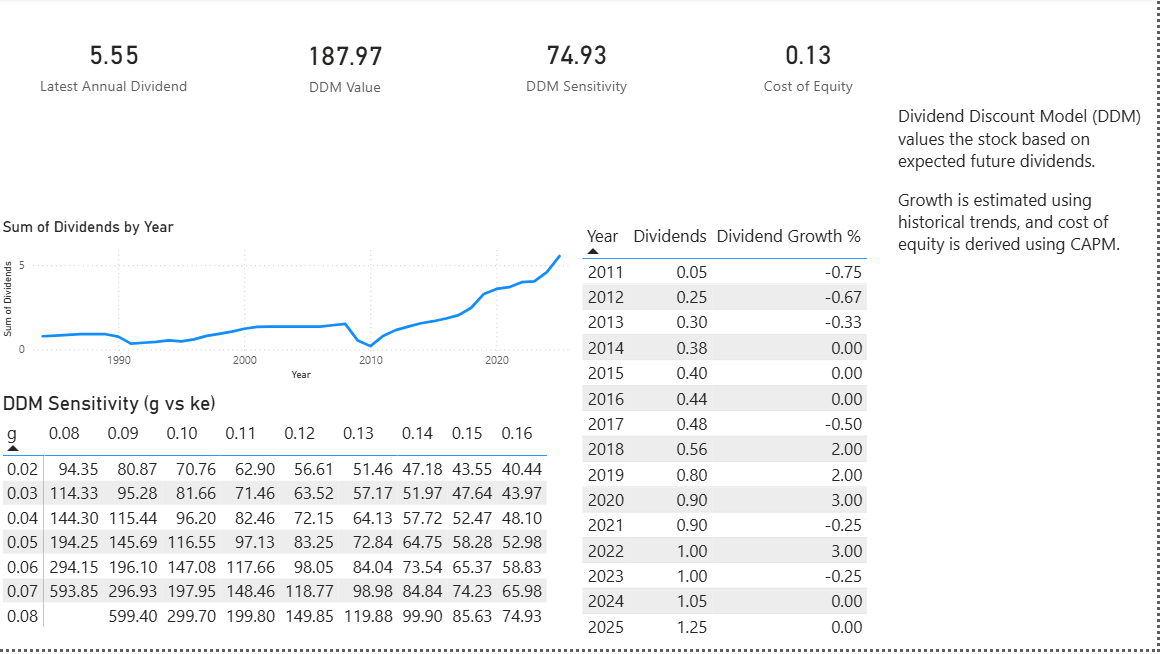

The dashboard page shown, as its layout file describes it:
{"tool":"powerbi","page":{"name":"DDM","canvas":[1280,720],"ordinal":1},"visuals":[{"type":"card","fields":{"Values":["JPMC_clean.Annual Dividend Latest"]},"box":[0,0,255.1,147.4],"z":0},{"type":"card","fields":{"Values":["JPMC_clean.DDM Value"]},"box":[255.1,0,255.1,149.1],"z":1000},{"type":"lineChart","fields":{"Category":["JPMC_clean.Date.Variation.Date Hierarchy.Year","JPMC_clean.Date.Variation.Date Hierarchy.Quarter","JPMC_clean.Date.Variation.Date Hierarchy.Month","JPMC_clean.Date.Variation.Date Hierarchy.Day"],"Y":["Sum(JPMC_clean.Dividends)"]},"box":[0,245.2,637.7,183.9],"z":3000},{"type":"card","fields":{"Values":["Assumptions.Cost of Equity"]},"box":[760.7,0,268.4,147.3],"z":5000},{"type":"tableEx","fields":{"Values":["JPMC_clean.Year","JPMC_clean.Dividends","JPMC_clean.Dividend Growth %"]},"box":[639.4,245.2,349.5,475.4],"z":6000},{"type":"pivotTable","title":"DDM Sensitivity (g vs ke)","fields":{"Rows":["Growth Table.Value"],"Columns":["Ke Table.Value"],"Values":["JPMC_clean.DDM Sensitivity"]},"box":[0,437.3,639.4,283.3],"z":7000},{"type":"card","fields":{"Values":["JPMC_clean.DDM Sensitivity"]},"box":[515.2,0,246.8,147.4],"z":8000},{"type":"textbox","box":[988.9,114.3,281.6,185.5],"z":8001}]}

Visuals, with their boxes in screenshot pixels (x1, y1, x2, y2), scaled from the page's 1280x720 canvas onto the 1160x654 screenshot:
card - JPMC_clean.Annual Dividend Latest: rect(0, 0, 231, 134)
card - JPMC_clean.DDM Value: rect(231, 0, 462, 135)
lineChart - JPMC_clean.Date.Variation.Date Hierarchy.Year x JPMC_clean.Date.Variation.Date Hierarchy.Quarter: rect(0, 223, 578, 390)
card - Assumptions.Cost of Equity: rect(689, 0, 933, 134)
tableEx - JPMC_clean.Year x JPMC_clean.Dividends: rect(579, 223, 896, 653)
"DDM Sensitivity (g vs ke)" pivotTable: rect(0, 397, 579, 653)
card - JPMC_clean.DDM Sensitivity: rect(467, 0, 691, 134)
textbox: rect(896, 104, 1151, 272)
